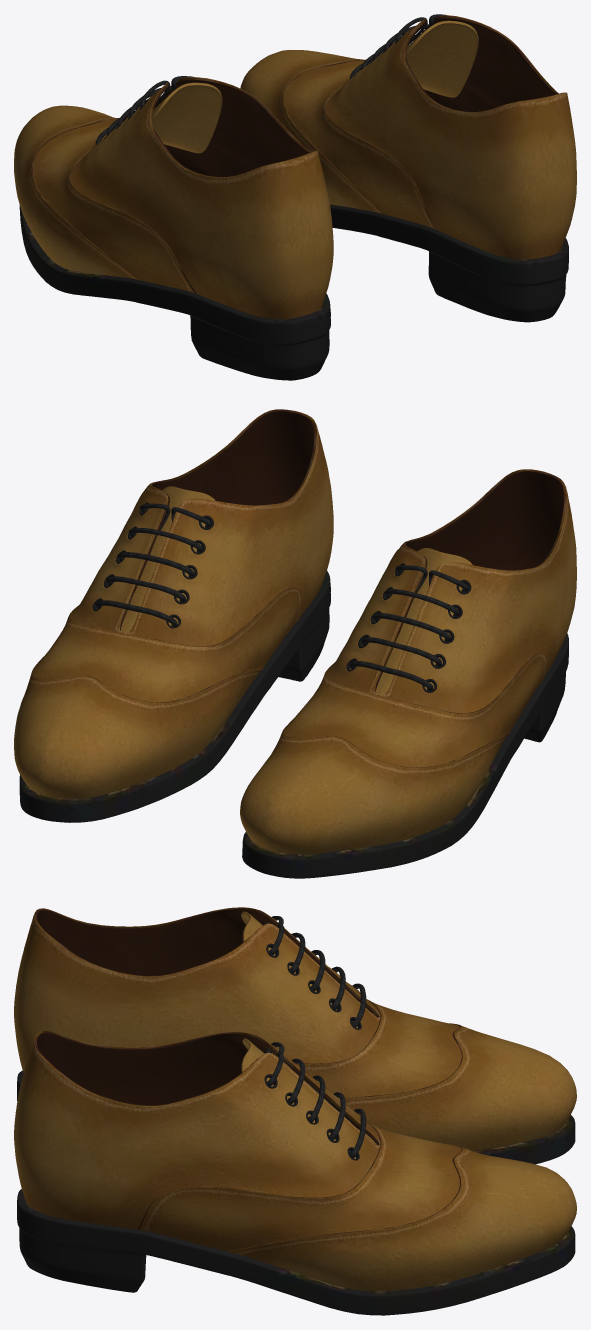
Rendered from formal-transformed.glb.
3 views of the same model, one above another, from view 1: azimuth 30°, elevation 25°; view 2: azimuth 150°, elevation 25°; view 3: azimuth 270°, elevation 25° (orthographic). The views are drawn at different scales.
Parts seen in each view (by area): view 1: defaultMaterial; view 2: defaultMaterial; view 3: defaultMaterial.
Part boxes in pixels (x1=…): defaultMaterial: x1=14, y1=14, x2=576, y2=380; defaultMaterial: x1=14, y1=409, x2=576, y2=878; defaultMaterial: x1=14, y1=907, x2=576, y2=1315.
Bounding box in the file's own units: 3.07 × 1.59 × 3.44.
1 material, 1 textured.
